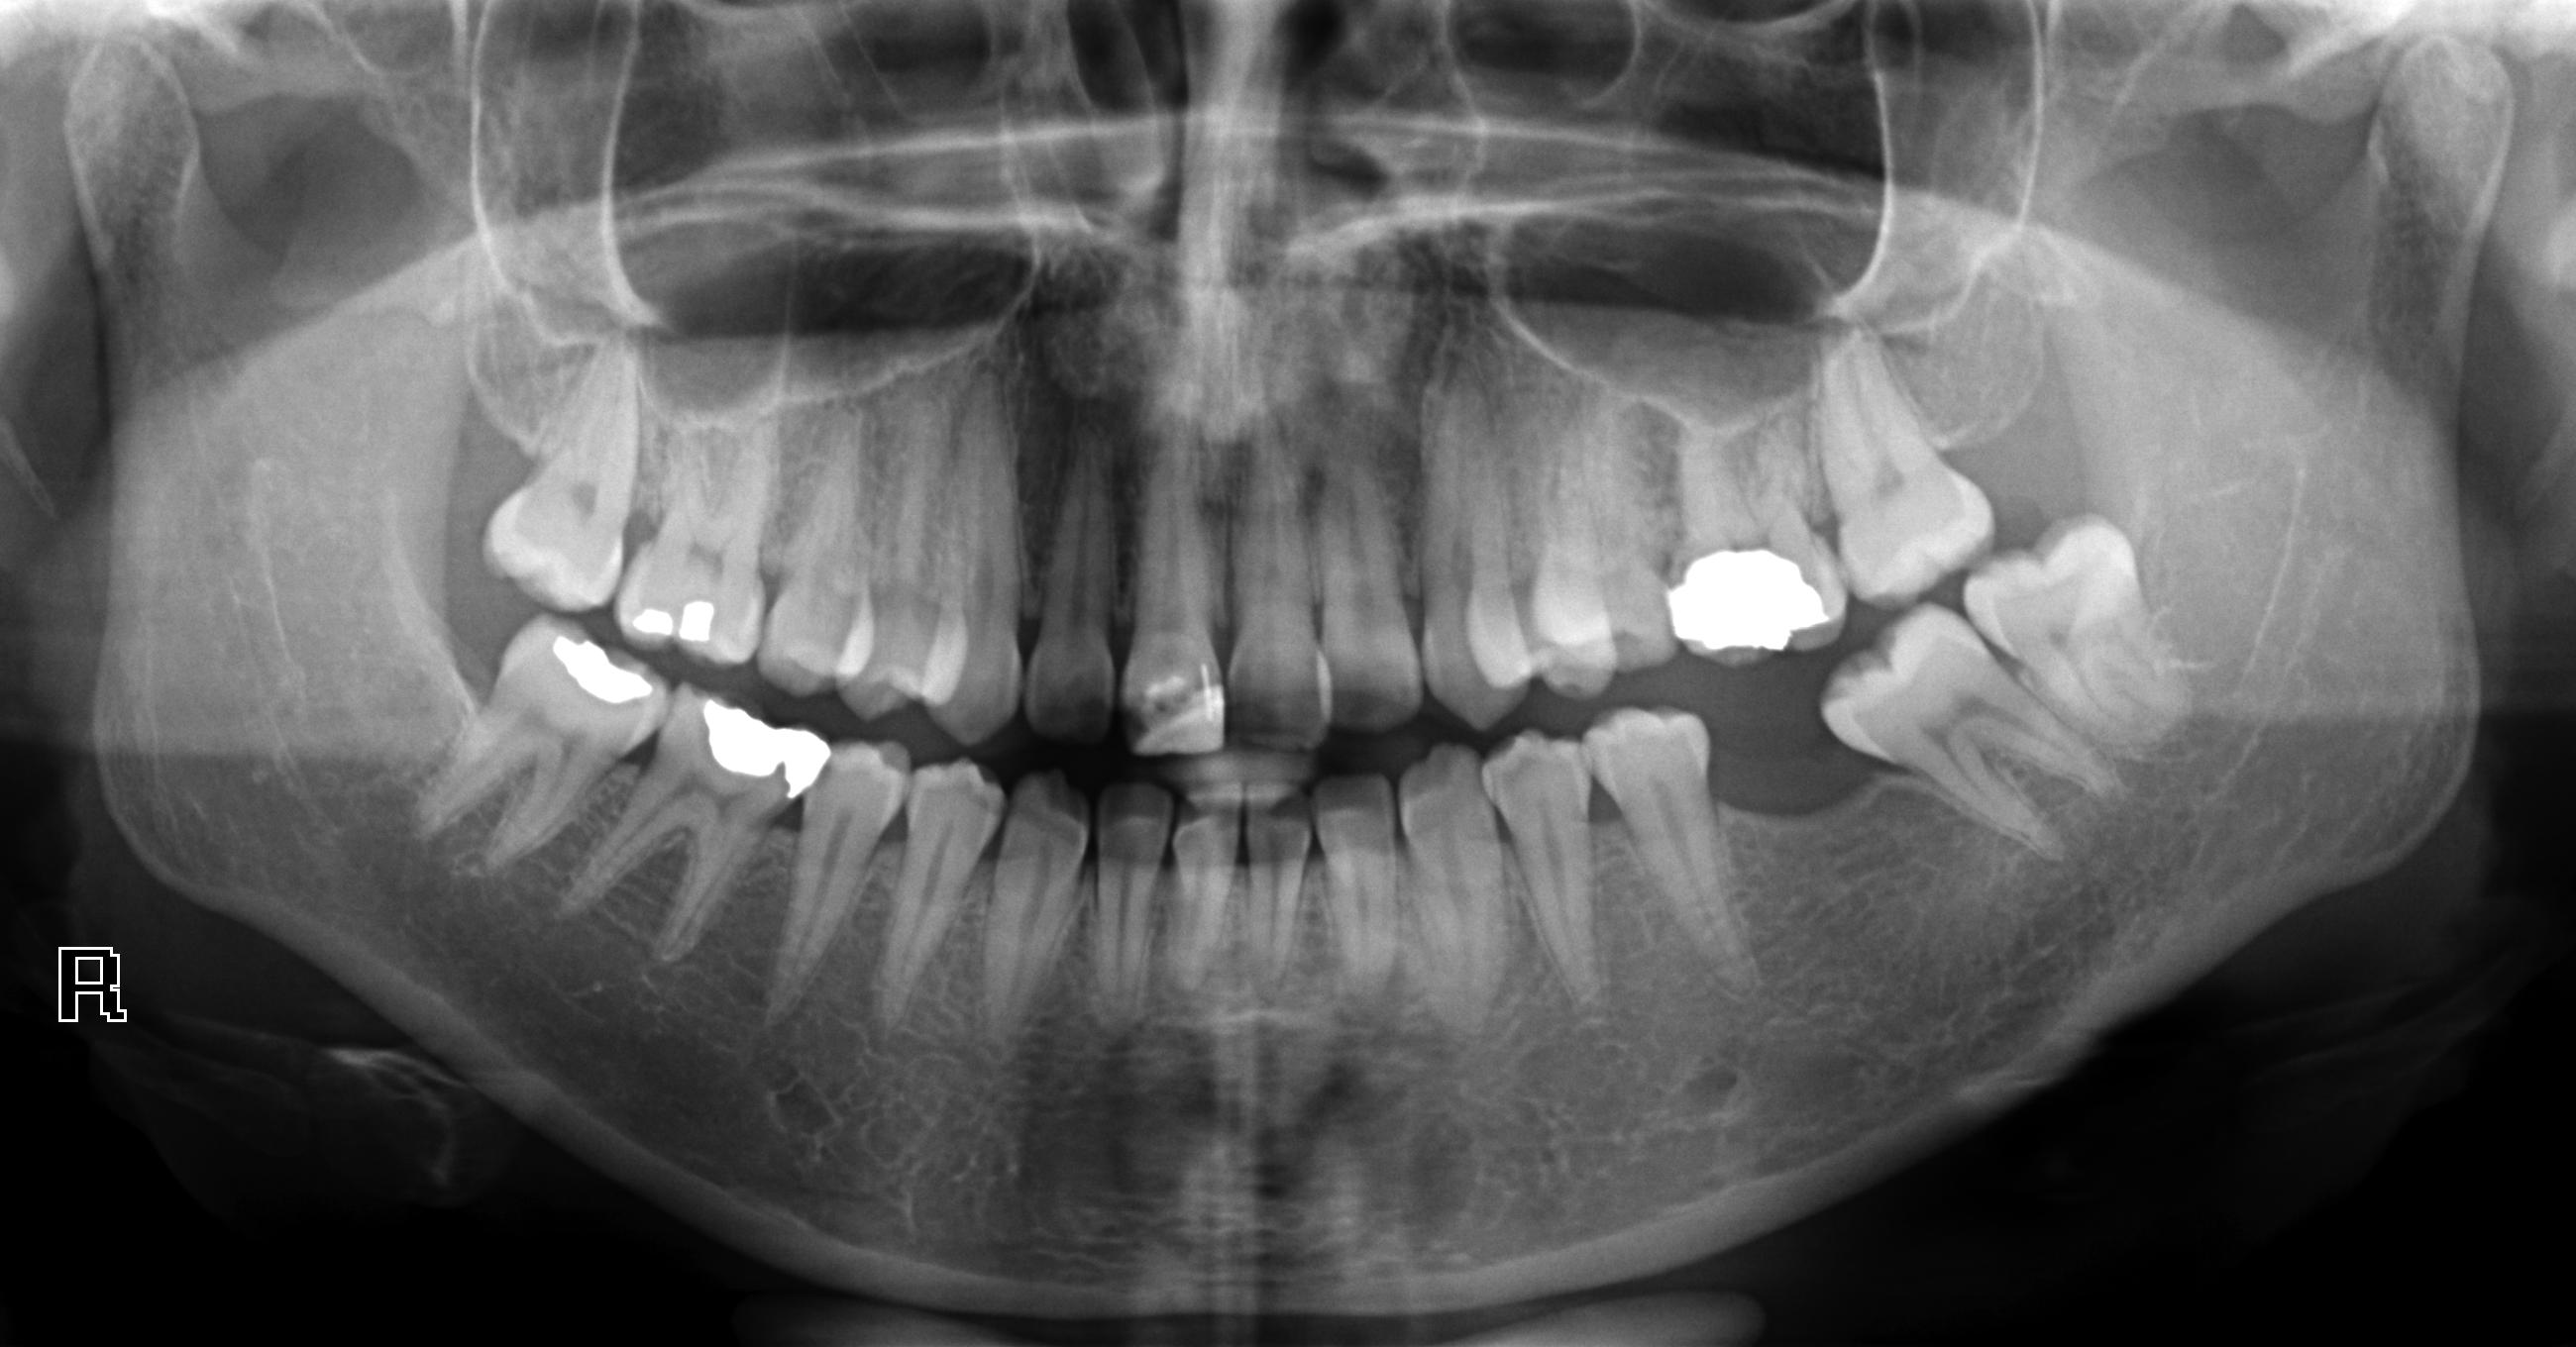Çürük: (1663, 536, 1845, 652), (700, 696, 821, 800), (630, 593, 736, 657), (552, 637, 661, 696), (1141, 673, 1216, 754)
Çürük Bölgesi: (1119, 681, 1164, 754), (601, 693, 670, 715), (773, 748, 789, 797)
